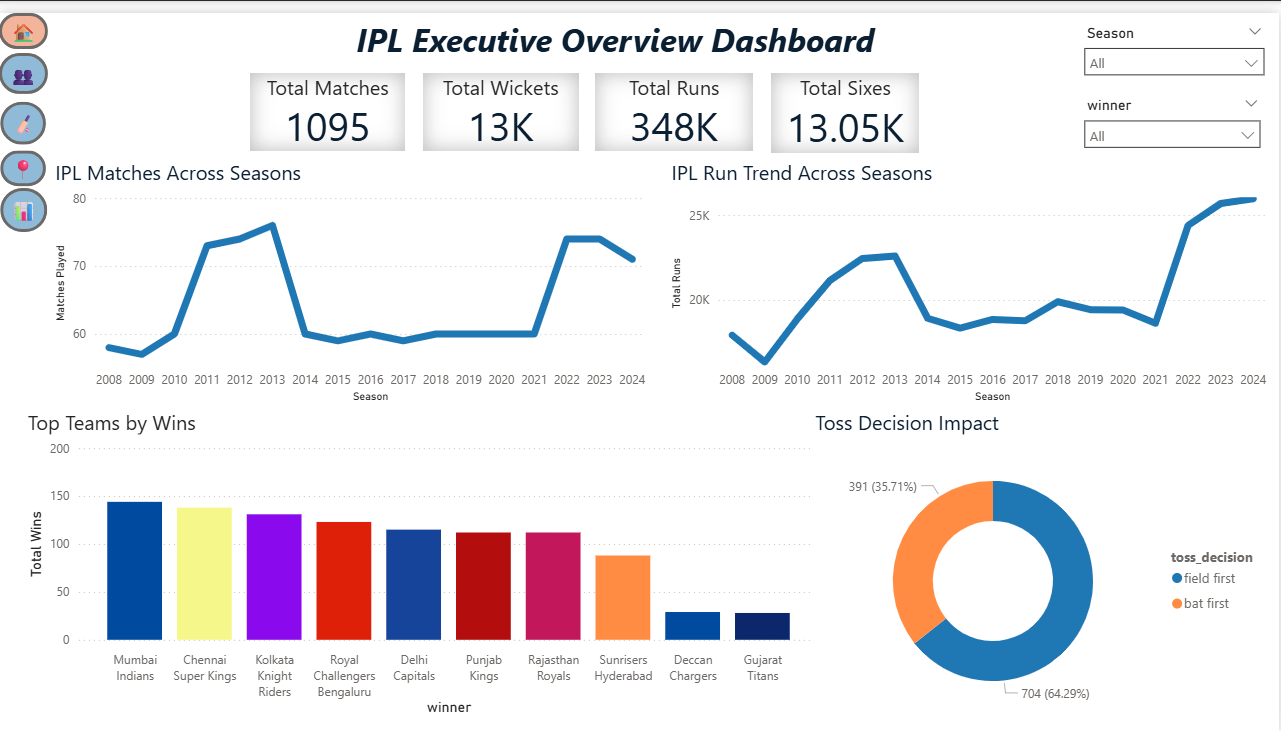

This screenshot's page, from the dashboard's own definition file:
{"tool":"powerbi","page":{"name":"Executive Overview 🏠","canvas":[1280,720],"ordinal":0},"visuals":[{"type":"textbox","box":[352,0,557,73],"z":0},{"type":"lineChart","title":"IPL Matches Across Seasons","fields":{"Category":["Merged Dataset.Season"],"Y":["Count(Merged Dataset.Match_id)"]},"box":[51.2,145.3,602.3,250],"z":1000},{"type":"columnChart","title":"Top Teams by Wins","fields":{"Category":["Merged Dataset.winner"],"Y":["Count(Mixed dataset.Match_id)"]},"box":[23.3,395.3,801.2,312.8],"z":2000},{"type":"donutChart","title":"Toss Decision Impact","fields":{"Y":["Count(Merged Dataset.Match_id)"],"Category":["Merged Dataset.toss_decision"]},"box":[811.4,395.3,465.7,320],"z":3000},{"type":"lineChart","title":"IPL Run Trend Across Seasons","fields":{"Category":["Merged Dataset.Season"],"Y":["Sum(Mixed dataset.deliveries.total_runs)"]},"box":[667.4,145.3,607,250],"z":4000},{"type":"slicer","fields":{"Values":["Mixed dataset.Season"]},"box":[1074.4,5.8,200,67],"z":5000,"group":"g2"},{"type":"group","id":"g1","title":"Group 1","box":[251.2,60.5,668.6,80.2],"z":5000},{"type":"card","title":"Total Matches","fields":{"Values":["Count(Mixed dataset.Match_id)"]},"box":[251.2,60.5,154.9,77.4],"z":5000,"group":"g1"},{"type":"actionButton","title":"Home","box":[0,0,49,36],"z":6000,"group":"g3"},{"type":"card","title":"Total Runs","fields":{"Values":["Sum(Mixed dataset.deliveries.total_runs)"]},"box":[596.7,60.5,157.9,78.3],"z":6000,"group":"g1"},{"type":"slicer","fields":{"Values":["Mixed dataset.winner"]},"box":[1074.4,77.8,196.3,63],"z":6000,"group":"g2"},{"type":"card","title":"Total Wickets","fields":{"Values":["Sum(Mixed dataset.deliveries.is_wicket)"]},"box":[423.4,60.5,155.9,77.4],"z":7000,"group":"g1"},{"type":"actionButton","title":"Home","box":[0.8,175,47,44],"z":7000,"group":"g3"},{"type":"card","title":"Total Sixes","fields":{"Values":["CountNonNull(Mixed dataset.deliveries.Total Runs)"]},"box":[771.9,60.5,147.9,80.2],"z":8000,"group":"g1"},{"type":"actionButton","title":"Home","box":[1.5,137.1,45.7,35.7],"z":8000,"group":"g3"},{"type":"group","id":"g2","title":"Group 3","box":[1074.4,5.8,200,134.9],"z":9000},{"type":"actionButton","title":"Home","box":[1.5,88.6,45.7,42.9],"z":10000,"group":"g3"},{"type":"actionButton","title":"Home","box":[0,40.5,49,41],"z":11000,"group":"g3"},{"type":"group","id":"g3","title":"Group 2","box":[0,0,49,219],"z":11001}]}

Visuals, with their boxes on the page's 1280x720 design canvas (x1, y1, x2, y2). These are canvas units, not pixel positions in the 1281x731 screenshot, which may show the page scaled, cropped or inside an application window:
textbox: x1=352 y1=0 x2=909 y2=73
"IPL Matches Across Seasons" lineChart: x1=51 y1=145 x2=654 y2=395
"Top Teams by Wins" columnChart: x1=23 y1=395 x2=824 y2=708
"Toss Decision Impact" donutChart: x1=811 y1=395 x2=1277 y2=715
"IPL Run Trend Across Seasons" lineChart: x1=667 y1=145 x2=1274 y2=395
slicer - Mixed dataset.Season: x1=1074 y1=6 x2=1274 y2=73
"Group 1" group: x1=251 y1=60 x2=920 y2=141
"Total Matches" card: x1=251 y1=60 x2=406 y2=138
"Home" actionButton: x1=0 y1=0 x2=49 y2=36
"Total Runs" card: x1=597 y1=60 x2=755 y2=139
slicer - Mixed dataset.winner: x1=1074 y1=78 x2=1271 y2=141
"Total Wickets" card: x1=423 y1=60 x2=579 y2=138
"Home" actionButton: x1=1 y1=175 x2=48 y2=219
"Total Sixes" card: x1=772 y1=60 x2=920 y2=141
"Home" actionButton: x1=2 y1=137 x2=47 y2=173
"Group 3" group: x1=1074 y1=6 x2=1274 y2=141
"Home" actionButton: x1=2 y1=89 x2=47 y2=132
"Home" actionButton: x1=0 y1=40 x2=49 y2=82
"Group 2" group: x1=0 y1=0 x2=49 y2=219
